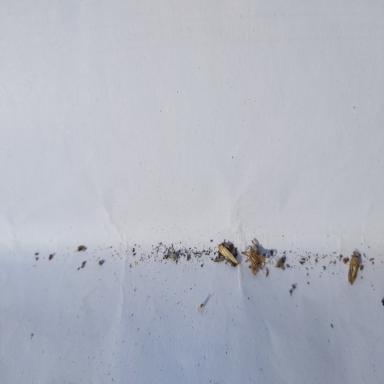pbw: (217, 242, 239, 267), (347, 252, 360, 284)
